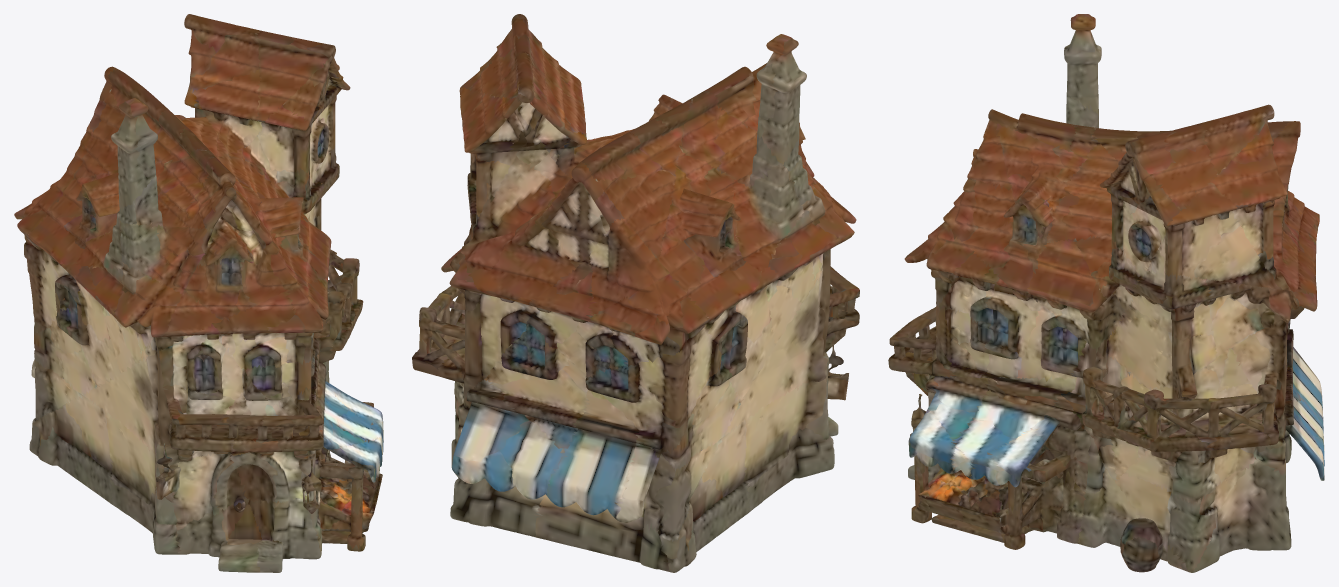
File: big building 1.glb
3 views of the same model, side by side, from view 1: azimuth 30°, elevation 25°; view 2: azimuth 150°, elevation 25°; view 3: azimuth 270°, elevation 25° (orthographic). The views are drawn at different scales.
Parts seen in each view (by area): view 1: Mesh_0; view 2: Mesh_0; view 3: Mesh_0.
Part boxes in pixels (x1,y1,x2,y2): Mesh_0: [14, 14, 383, 572]; Mesh_0: [412, 14, 859, 572]; Mesh_0: [888, 14, 1324, 572].
Bounding box in the file's own units: 0.8184 × 1.1 × 1.
Materials: 1 (1 with a texture image).
